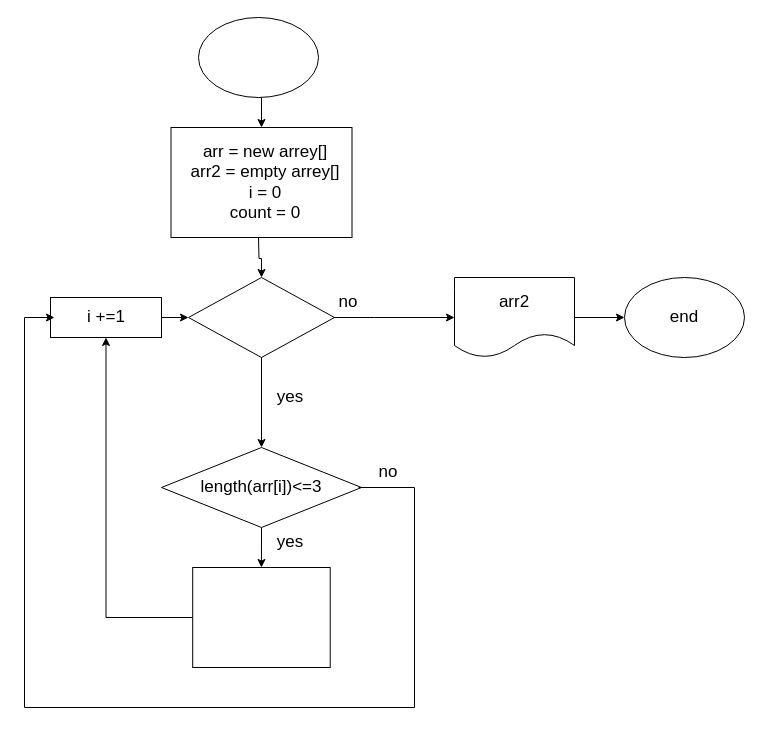
The diagram is 762 pixels wide and 733 high, and some of its shapes have lost their labels. Here are the shapes that lost their labels. From the top down, the centre of each, then its label:
At (x=258, y=57): "start".
At (x=261, y=317): "i < length(arr)".
At (x=261, y=617): "arr2[count] = arr[i] count += 1".
